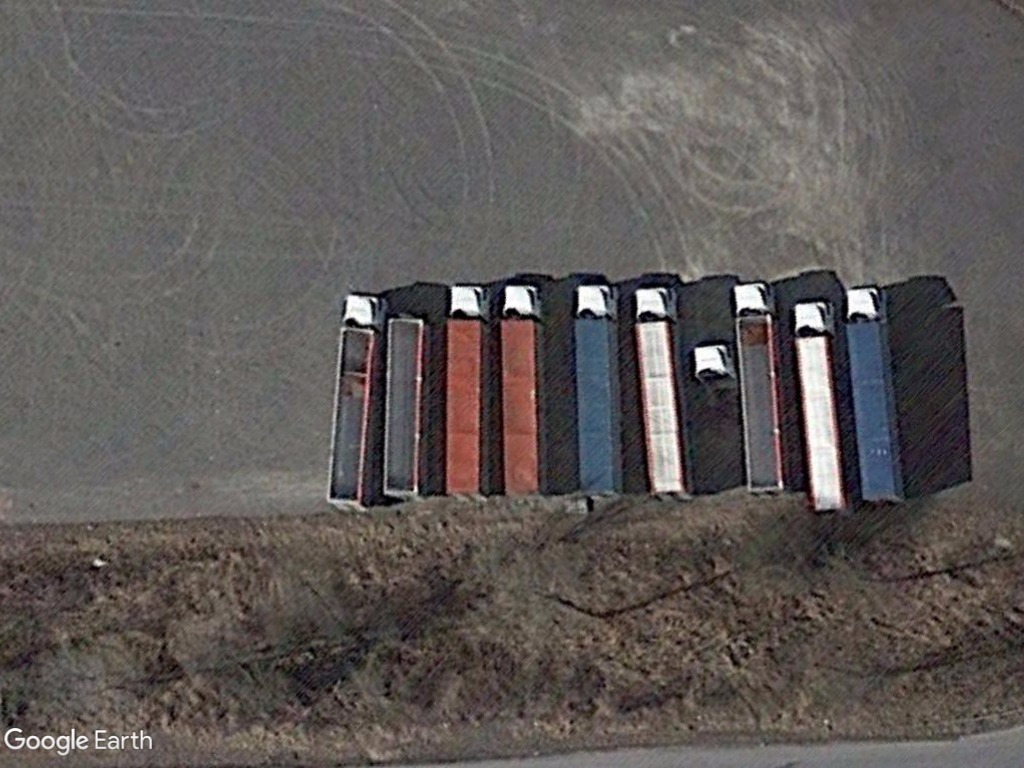longvehicle: (839, 276, 913, 508), (320, 283, 392, 516), (632, 280, 703, 504), (728, 273, 796, 500), (495, 276, 559, 498), (441, 278, 501, 506), (792, 295, 854, 513), (569, 279, 630, 500), (382, 312, 439, 505)
